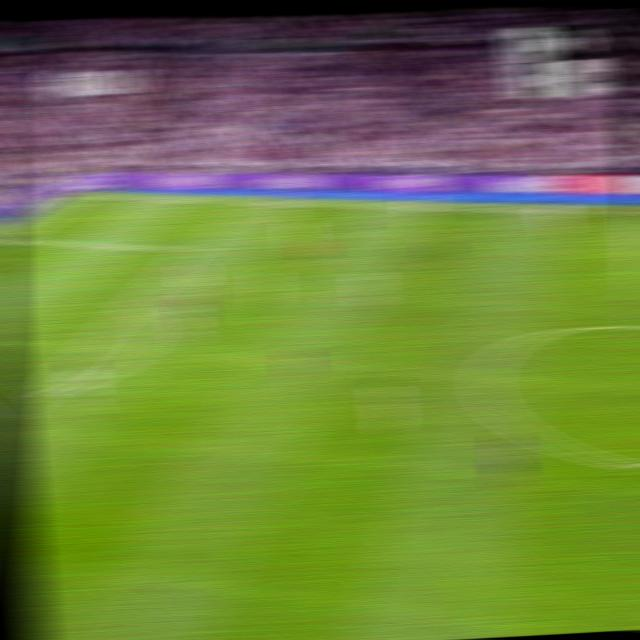bigarea_top_inner: (179, 240, 203, 256)
bottom_arc_area_intersection: (25, 383, 52, 405)
corner: (72, 188, 97, 201)
halfcircle_top: (625, 310, 640, 339)
midline_top_intersection: (623, 205, 640, 219)
smallarea_top_inner: (0, 282, 18, 295)
top_arc_area_intersection: (120, 295, 146, 314)
